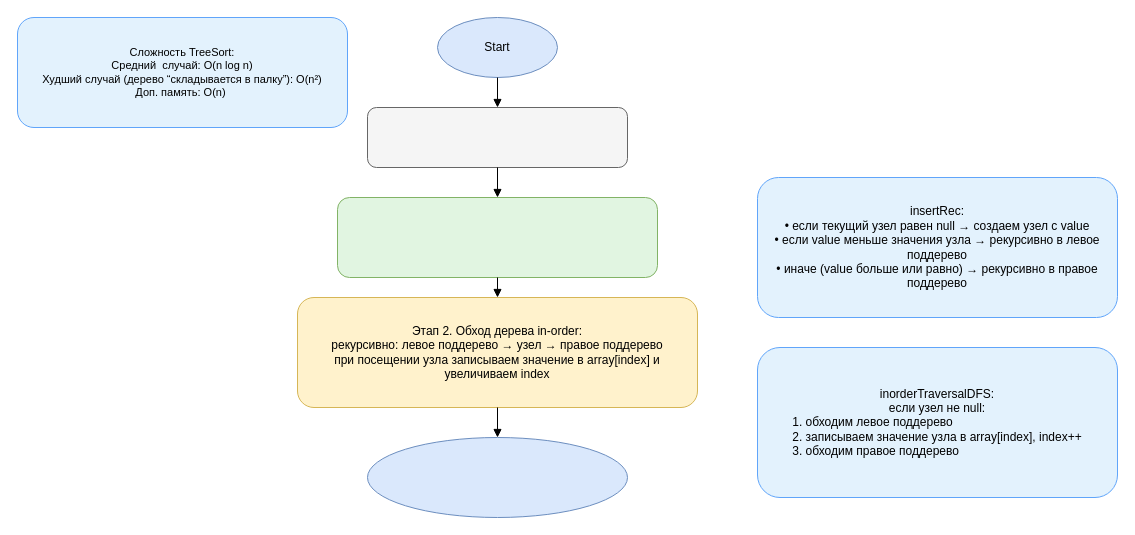
This 1135x535 diagram has some shape labels left out. Each missing label, with the box of its shape:
Finish: (366, 436, 628, 518)
Вход: int[] array: (366, 106, 628, 168)
Этап 1. Построение дерева поиска: для каждого значения из array вызываем insert: (336, 196, 658, 278)
